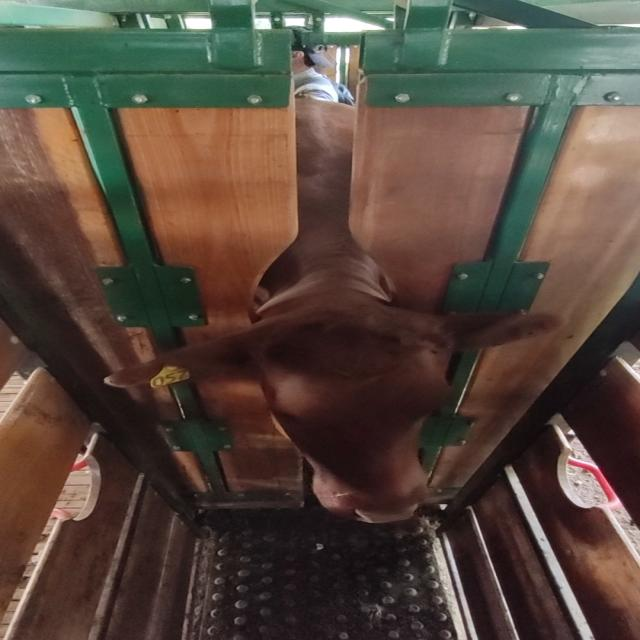cowFace: (266, 306, 454, 526)
